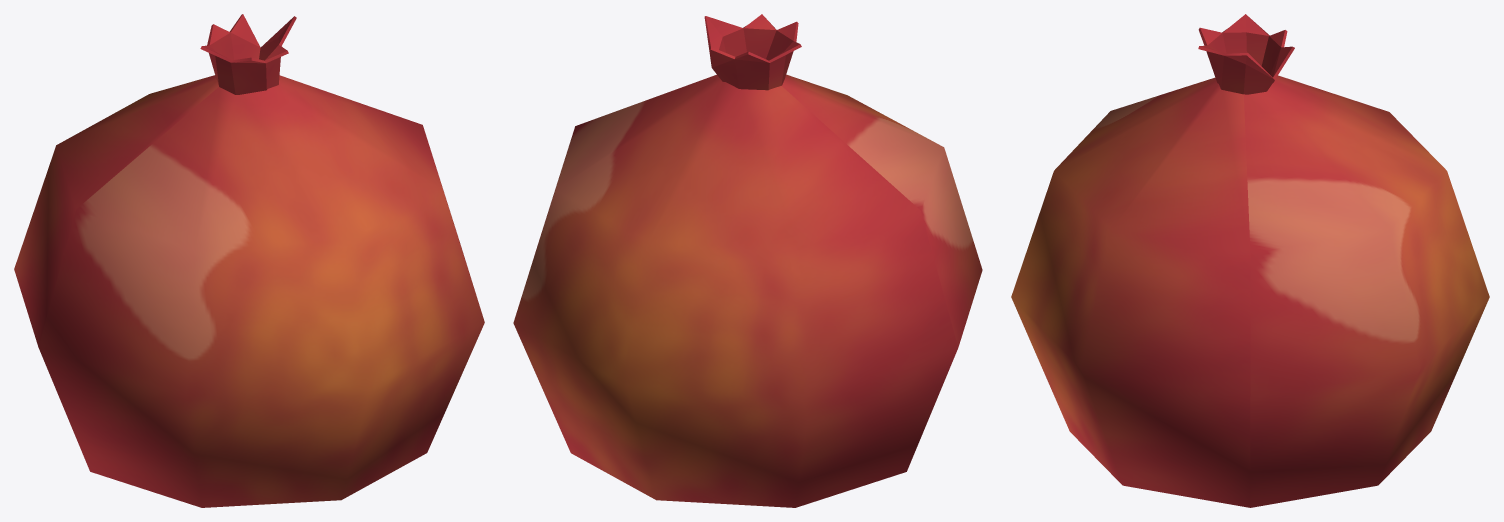
Rendered from Pome.FBX.
3 views of the same model, side by side, from view 1: azimuth 30°, elevation 25°; view 2: azimuth 150°, elevation 25°; view 3: azimuth 270°, elevation 25° (orthographic).
Parts seen in each view (by area): view 1: Pomegranate; view 2: Pomegranate; view 3: Pomegranate.
Boxes of the visible parts, x1,y1,x2,y2 form: Pomegranate: (14, 14, 484, 507); Pomegranate: (513, 14, 982, 507); Pomegranate: (1011, 14, 1489, 507).
Bounding box in the file's own units: 8.61 × 9.24 × 8.61.
